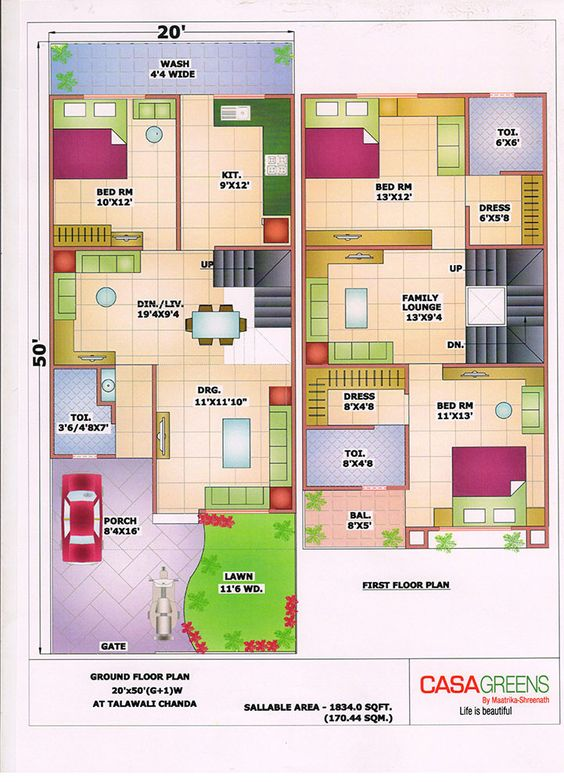balcony: (45, 36, 299, 98), (296, 486, 414, 554)
room: (150, 244, 298, 516), (46, 245, 300, 370), (298, 246, 550, 367), (296, 90, 472, 253), (404, 359, 551, 533), (47, 93, 182, 251), (171, 92, 298, 252), (44, 361, 158, 462), (300, 360, 413, 430), (300, 422, 413, 491), (460, 91, 549, 177), (461, 168, 550, 251)
